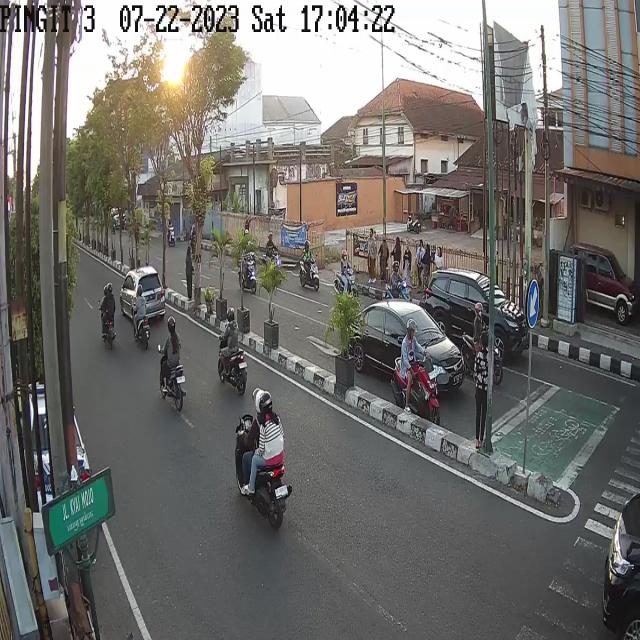car: (413, 268, 523, 359), (356, 301, 465, 385), (573, 244, 638, 327), (122, 266, 168, 324)
motorcycle: (233, 384, 293, 530), (388, 341, 436, 414), (159, 319, 188, 416), (467, 298, 501, 380), (218, 304, 246, 394), (98, 278, 115, 352), (382, 260, 406, 309), (132, 286, 150, 351), (299, 240, 321, 292), (237, 240, 256, 296), (336, 250, 354, 299), (264, 231, 281, 282), (406, 216, 421, 234)
